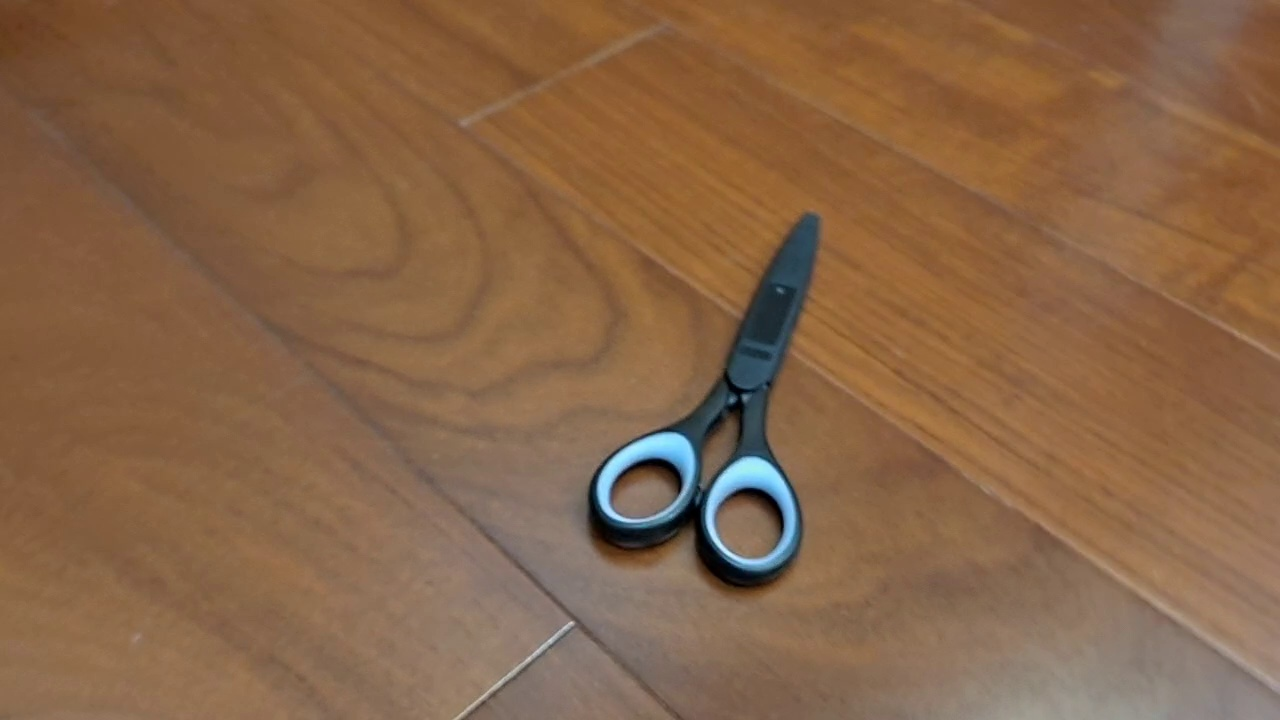scissors: (585, 210, 823, 591)
